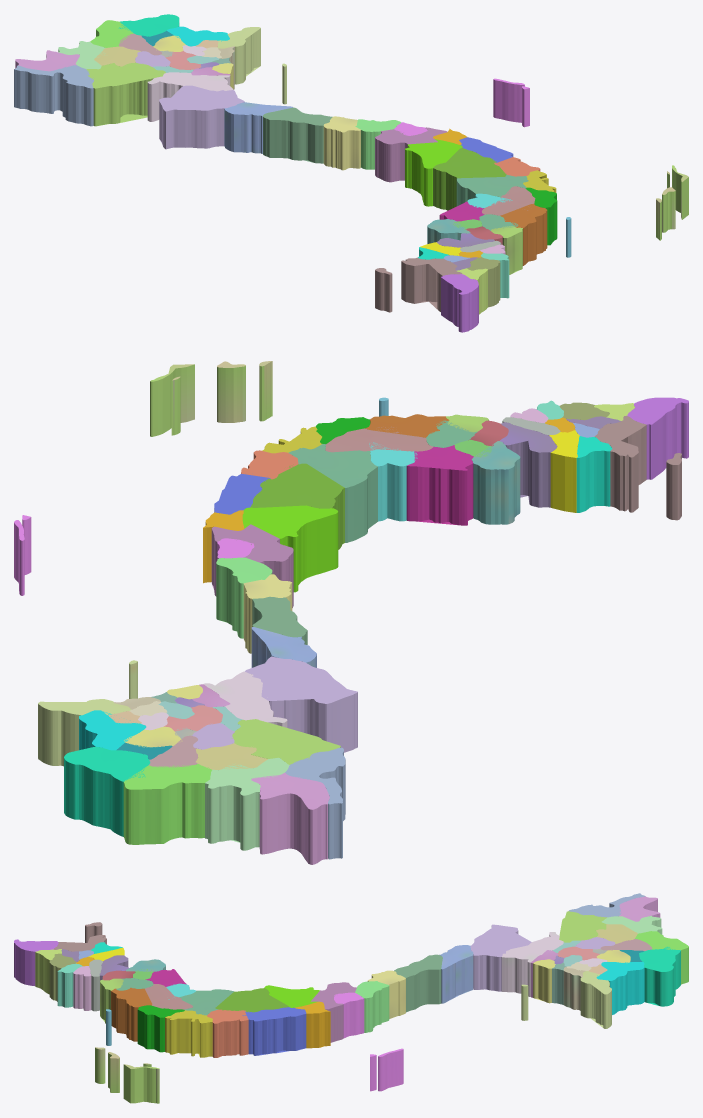
File: BanDoVietNam.fbx
3 renders of one model, top to bottom at view 1: azimuth 30°, elevation 25°; view 2: azimuth 150°, elevation 25°; view 3: azimuth 270°, elevation 25°, orthographic. The views are drawn at different scales.
Parts seen in each view (by area): view 1: NgheAn, DienBien, SonLa, QuangBinh, GiaLai, KienGiang, HaTinh, KonTum, CaMau, QuangNam, QuangTri, ThanhHoa (+23 smaller); view 2: NgheAn, HaGiang, LaiChau, HuyenDaoTruongSa, CaoBang, BinhPhuoc, LaoCai, KonTum, DakLak, TayNinh, KienGiang, GiaLai (+30 smaller); view 3: BinhDinh, NgheAn, HuyenDaoTruongSa, CaoBang, KhanhHoa, QuangBinh, ThanhHoa, LangSon, PhuYen, HaTinh, QuangNinh, BinhThuan (+33 smaller).
Boxes of the visible parts, left/top/right/bottom form: NgheAn: left=159, top=85, right=244, bottom=149; DienBien: left=14, top=65, right=93, bottom=126; SonLa: left=86, top=62, right=165, bottom=126; QuangBinh: left=263, top=107, right=332, bottom=163; GiaLai: left=433, top=147, right=506, bottom=210; KienGiang: left=401, top=257, right=462, bottom=311; HaTinh: left=224, top=102, right=293, bottom=153; KonTum: left=405, top=139, right=462, bottom=206; CaMau: left=441, top=274, right=478, bottom=332; QuangNam: left=375, top=127, right=447, bottom=182; QuangTri: left=323, top=116, right=360, bottom=170; ThanhHoa: left=147, top=72, right=233, bottom=121; NgheAn: left=245, top=656, right=357, bottom=752; HaGiang: left=123, top=764, right=211, bottom=844; LaiChau: left=251, top=772, right=329, bottom=864; HuyenDaoTruongSa: left=150, top=361, right=272, bottom=436; CaoBang: left=64, top=747, right=150, bottom=836; BinhPhuoc: left=406, top=445, right=473, bottom=525; LaoCai: left=205, top=757, right=289, bottom=850; KonTum: left=242, top=505, right=338, bottom=592; DakLak: left=288, top=444, right=377, bottom=542; TayNinh: left=471, top=441, right=520, bottom=524; KienGiang: left=594, top=416, right=646, bottom=512; GiaLai: left=250, top=463, right=344, bottom=549; BinhDinh: left=242, top=1007, right=306, bottom=1055; NgheAn: left=470, top=924, right=531, bottom=991; HuyenDaoTruongSa: left=95, top=1047, right=159, bottom=1103; CaoBang: left=639, top=946, right=680, bottom=1006; KhanhHoa: left=165, top=1010, right=212, bottom=1057; QuangBinh: left=394, top=954, right=442, bottom=1012; ThanhHoa: left=501, top=932, right=563, bottom=996; LangSon: left=596, top=962, right=644, bottom=1014; PhuYen: left=207, top=1009, right=248, bottom=1057; HaTinh: left=439, top=945, right=473, bottom=1003; QuangNinh: left=580, top=971, right=611, bottom=1028; BinhThuan: left=111, top=987, right=152, bottom=1041.
Size of the model in its own units: 2.88 by 4.67 by 0.2663.
